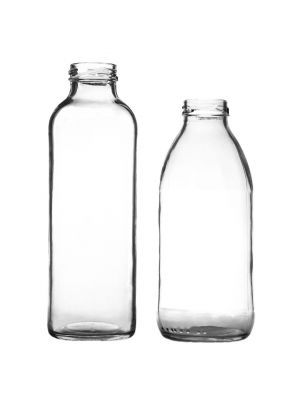glass_bottle: (45, 59, 143, 341), (152, 97, 262, 346)
